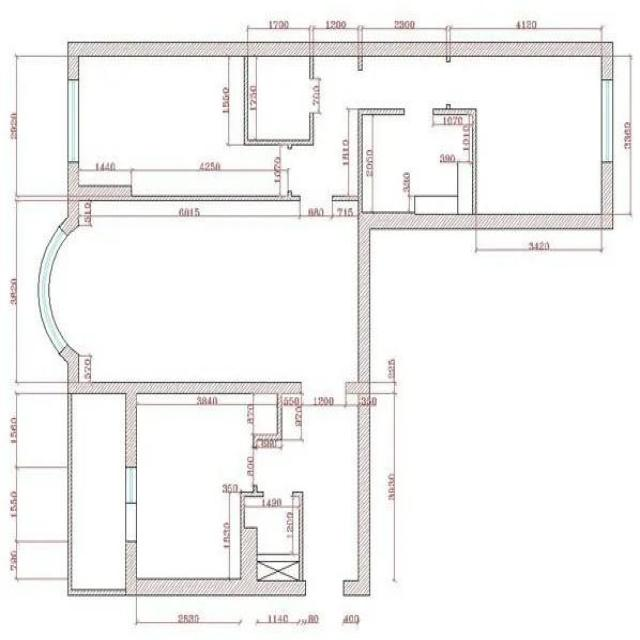Corridors: (258, 395, 358, 580), (363, 117, 472, 213), (73, 394, 125, 588), (293, 57, 357, 194), (249, 57, 309, 138), (364, 58, 446, 107), (246, 498, 298, 555)
Doors: (306, 581, 343, 595), (301, 382, 346, 393), (125, 504, 137, 541), (405, 108, 433, 115), (252, 447, 257, 484), (358, 72, 363, 107), (264, 491, 293, 497), (446, 62, 450, 105), (288, 149, 292, 191), (301, 196, 332, 201), (309, 79, 313, 110)
LBwalls: (342, 162, 614, 597), (59, 345, 303, 467), (67, 42, 614, 79), (124, 527, 306, 595), (60, 163, 132, 236)
Offices: (50, 200, 357, 381), (80, 57, 287, 194), (137, 395, 276, 577), (451, 56, 602, 213)
Walls: (67, 394, 126, 596), (332, 107, 405, 212), (243, 57, 314, 149), (432, 103, 477, 214), (132, 190, 301, 201), (252, 393, 283, 448), (292, 490, 304, 581), (240, 484, 264, 526), (309, 57, 313, 82), (358, 57, 363, 72), (446, 56, 450, 64)
Windows: (36, 226, 69, 355), (601, 80, 614, 162), (67, 79, 79, 163), (125, 466, 137, 504)
